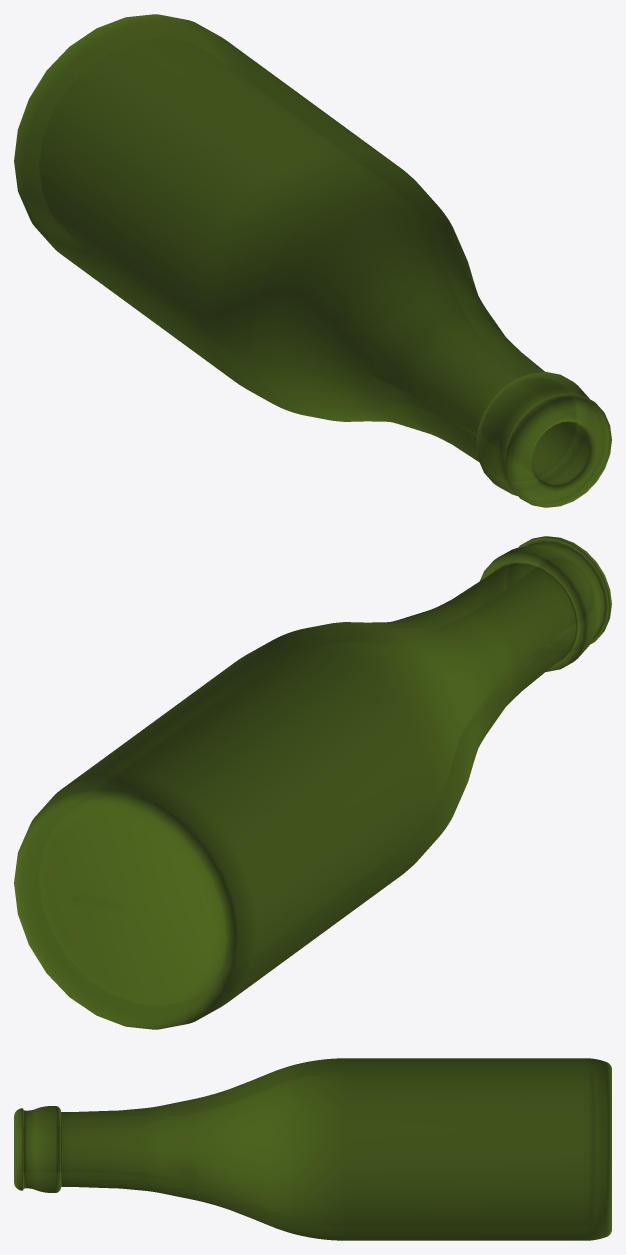
The model's file is model_scale.obj.
3 renders of one model, top to bottom at view 1: azimuth 30°, elevation 25°; view 2: azimuth 150°, elevation 25°; view 3: azimuth 270°, elevation 25°, orthographic. The views are drawn at different scales.
Parts seen in each view (by area): view 1: mesh1_mesh1-geometry; view 2: mesh1_mesh1-geometry; view 3: mesh1_mesh1-geometry.
Boxes of the visible parts, box(x1,y1,x2,y2) form: mesh1_mesh1-geometry: box(14, 14, 611, 507); mesh1_mesh1-geometry: box(14, 536, 611, 1029); mesh1_mesh1-geometry: box(14, 1058, 611, 1240).
Bounding box in the file's own units: 0.0407 × 0.0407 × 0.1328.
